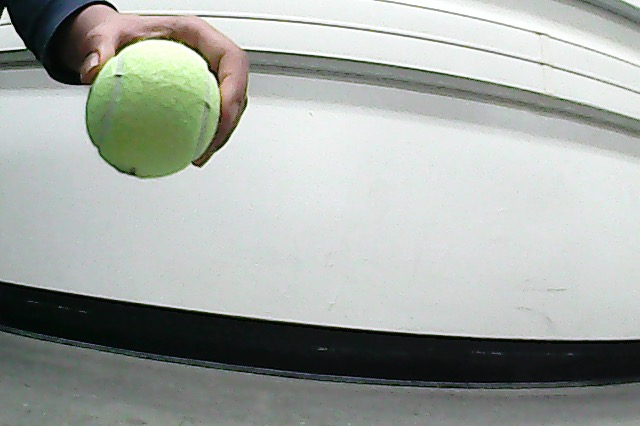ball: (87, 41, 221, 179)
